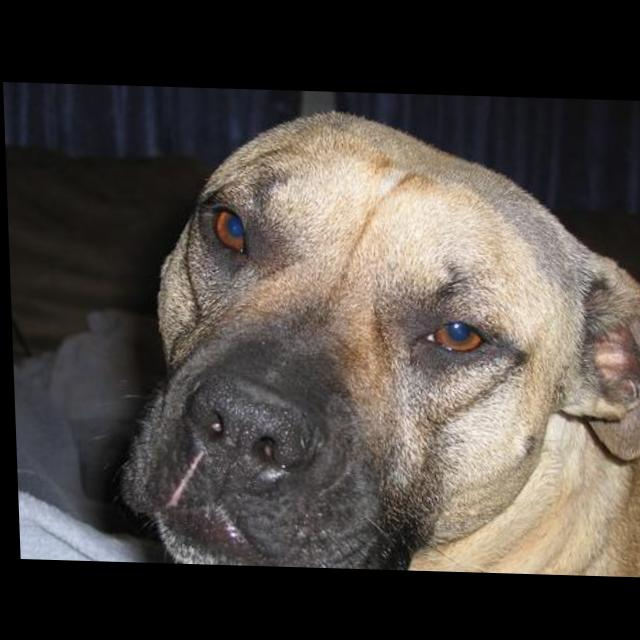amstaff: (104, 101, 640, 574)
